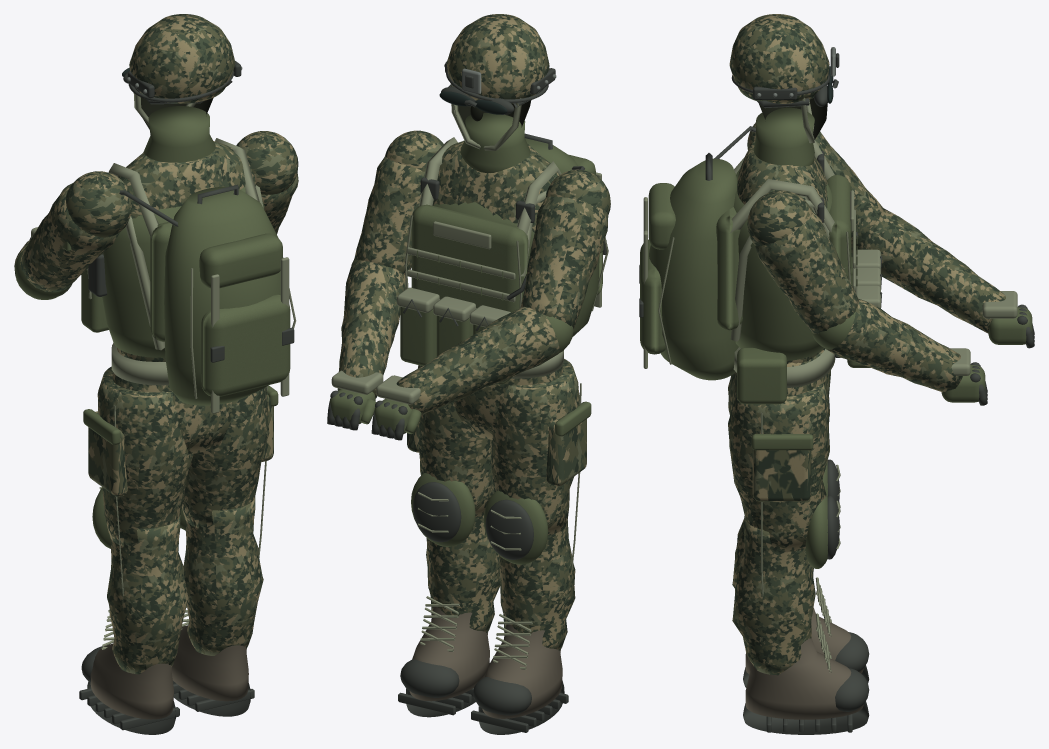
File: soldier-static.glb
The picture shows the model from 3 angles, left to right: view 1: azimuth 30°, elevation 25°; view 2: azimuth 150°, elevation 25°; view 3: azimuth 270°, elevation 25°; orthographic projection. The views are drawn at different scales.
Visible parts, largest first — view 1: Original woodland fabric, Original olive Cordura, Boot leather, Webbing and seam thread, Rubber and polymer, Original charcoal balaclava; view 2: Original woodland fabric, Original olive Cordura, Rubber and polymer, Webbing and seam thread, Boot leather, Opaque protective lenses, Original charcoal balaclava; view 3: Original woodland fabric, Original olive Cordura, Webbing and seam thread, Rubber and polymer, Boot leather.
Part boxes in pixels (bbox=[...]): Original woodland fabric: bbox=[14, 14, 298, 674]; Original olive Cordura: bbox=[15, 106, 290, 548]; Boot leather: bbox=[90, 625, 248, 719]; Webbing and seam thread: bbox=[31, 93, 296, 649]; Rubber and polymer: bbox=[29, 61, 294, 734]; Original charcoal balaclava: bbox=[140, 97, 213, 129]; Original woodland fabric: bbox=[337, 14, 610, 650]; Original olive Cordura: bbox=[329, 113, 603, 564]; Rubber and polymer: bbox=[327, 61, 606, 734]; Webbing and seam thread: bbox=[331, 83, 608, 669]; Boot leather: bbox=[409, 606, 562, 718]; Opaque protective lenses: bbox=[439, 91, 507, 114]; Original charcoal balaclava: bbox=[453, 100, 531, 128]; Original woodland fabric: bbox=[728, 14, 1005, 675]; Original olive Cordura: bbox=[640, 107, 1032, 568]; Webbing and seam thread: bbox=[643, 97, 1017, 672]; Rubber and polymer: bbox=[639, 53, 1034, 734]; Boot leather: bbox=[745, 608, 863, 719].
Size of the model in its own units: 0.92 by 2.56 by 1.35.
Materials: 8 (3 with a texture image).
